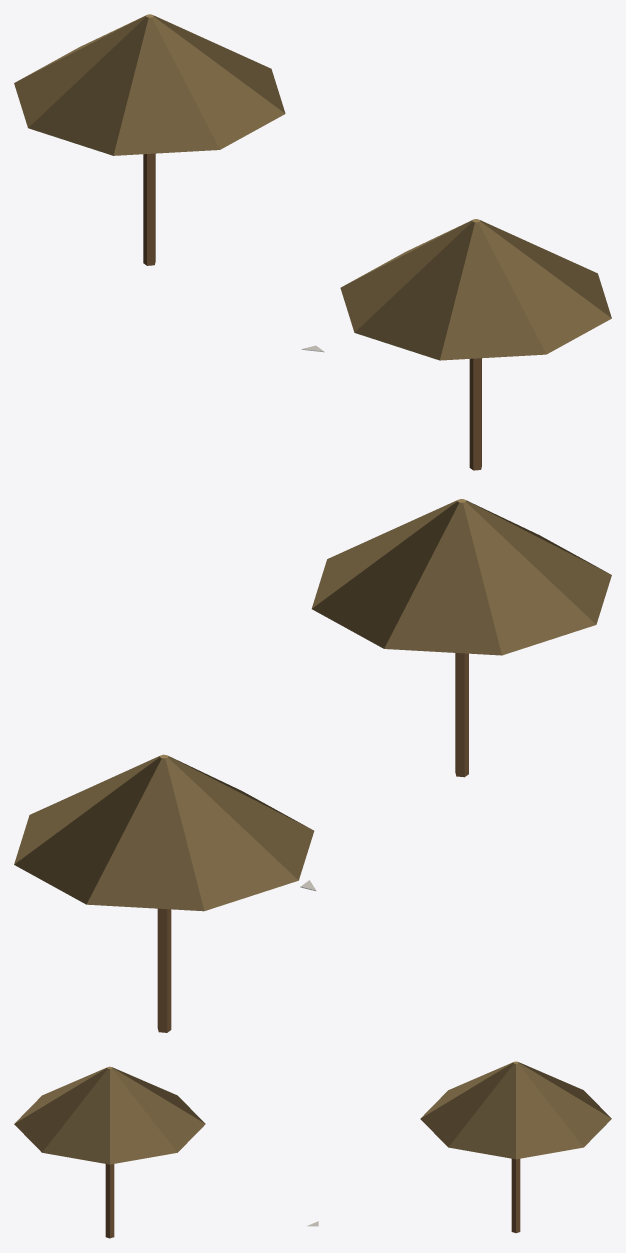
The model's file is palapa_m25_m6.glb.
3 renders of one model, top to bottom at view 1: azimuth 30°, elevation 25°; view 2: azimuth 150°, elevation 25°; view 3: azimuth 270°, elevation 25°, orthographic. The views are drawn at different scales.
Parts seen in each view (by area): view 1: palapa_m25_m6_lod0; view 2: palapa_m25_m6_lod0; view 3: palapa_m25_m6_lod0.
Part boxes in pixels (box(x1,y1,x2,y2)): palapa_m25_m6_lod0: box(14, 14, 611, 470); palapa_m25_m6_lod0: box(14, 499, 611, 1032); palapa_m25_m6_lod0: box(14, 1061, 611, 1238).
Size of what is drawn, in the model's own units: 3.8 by 3.38 by 10.6.
